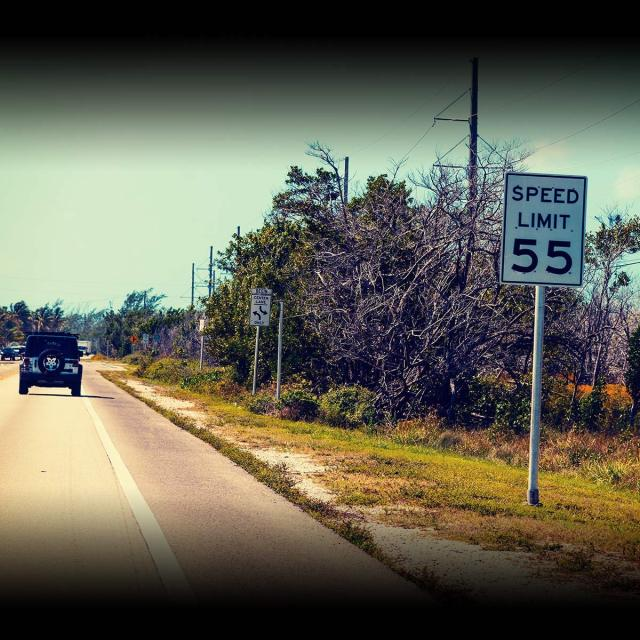speedLimit55: (497, 155, 587, 296)
